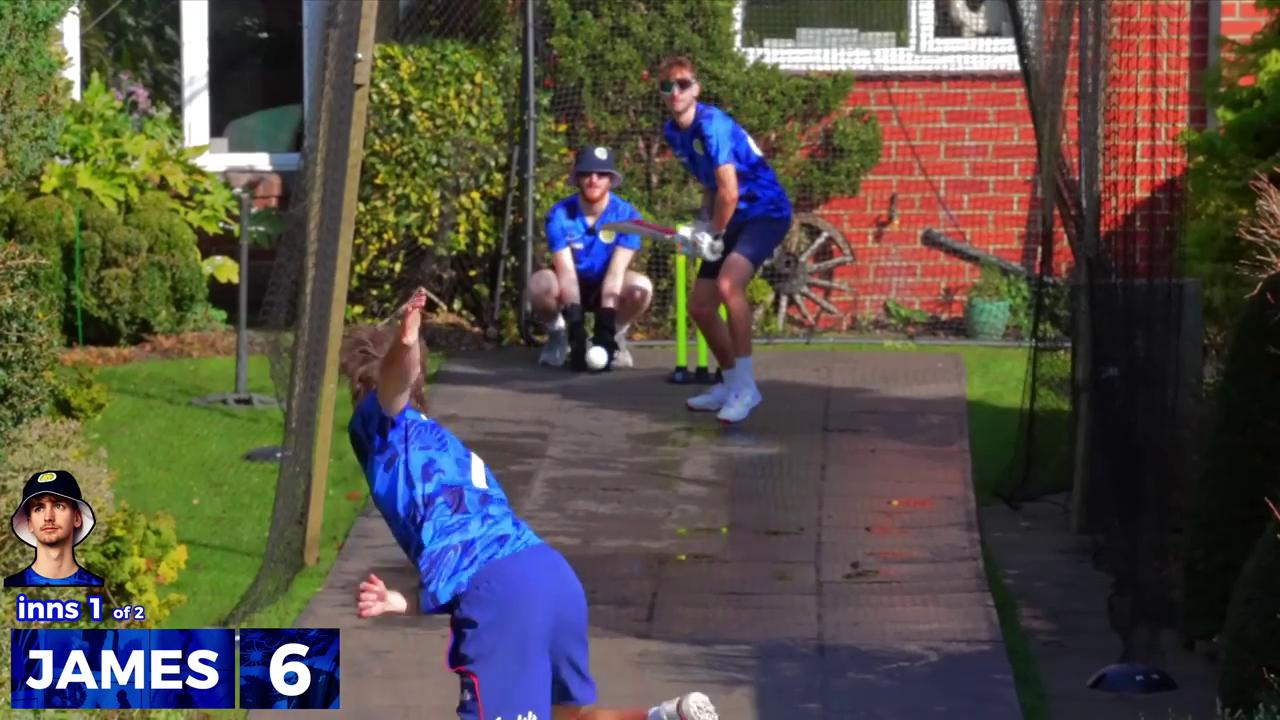ball: (574, 335, 627, 383)
